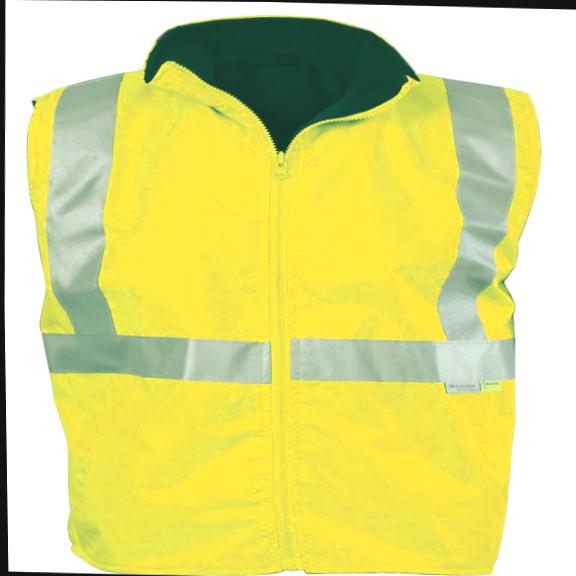safety_vest: (16, 15, 549, 576)
